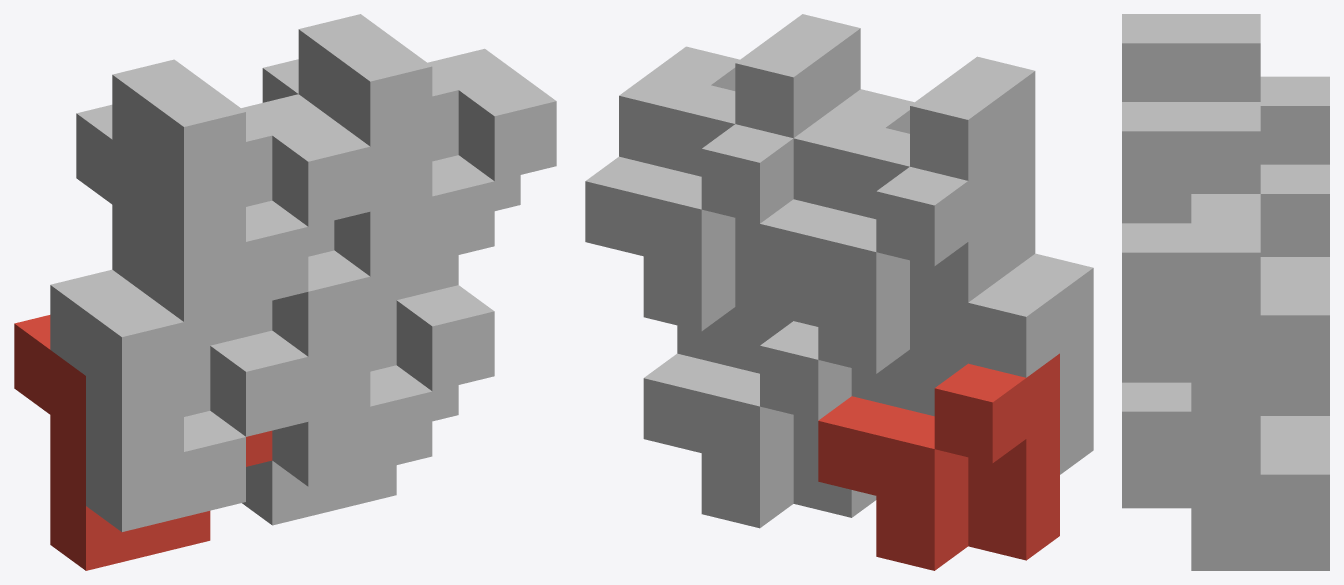
The model's file is tiling.obj.
3 renders of one model, left to right at view 1: azimuth 30°, elevation 25°; view 2: azimuth 150°, elevation 25°; view 3: azimuth 270°, elevation 25°, orthographic. The views are drawn at different scales.
Visible parts, largest first — view 1: copy_1_domain_4, copy_1_domain_2, copy_1_domain_8, copy_1_domain_6, copy_1_domain_1, copy_1_domain_3, copy_1_domain_5, copy_1_domain_7; view 2: copy_1_domain_1, copy_1_domain_3, copy_1_domain_7, copy_1_domain_5, copy_1_domain_4, copy_1_domain_8, copy_1_domain_2, copy_1_domain_6; view 3: copy_1_domain_8, copy_1_domain_7, copy_1_domain_5, copy_1_domain_6, copy_1_domain_4, copy_1_domain_3.
Boxes of the visible parts, x1=… form: copy_1_domain_4: x1=112, y1=59, x2=370, y2=321; copy_1_domain_2: x1=50, y1=269, x2=308, y2=531; copy_1_domain_8: x1=298, y1=14, x2=556, y2=276; copy_1_domain_6: x1=272, y1=250, x2=494, y2=486; copy_1_domain_1: x1=14, y1=315, x2=272, y2=570; copy_1_domain_3: x1=76, y1=104, x2=334, y2=351; copy_1_domain_5: x1=242, y1=385, x2=458, y2=525; copy_1_domain_7: x1=262, y1=59, x2=520, y2=306; copy_1_domain_1: x1=818, y1=353, x2=1059, y2=570; copy_1_domain_3: x1=760, y1=156, x2=1001, y2=373; copy_1_domain_7: x1=585, y1=124, x2=793, y2=331; copy_1_domain_5: x1=643, y1=321, x2=876, y2=528; copy_1_domain_4: x1=793, y1=56, x2=1035, y2=277; copy_1_domain_8: x1=619, y1=14, x2=860, y2=176; copy_1_domain_2: x1=851, y1=253, x2=1093, y2=474; copy_1_domain_6: x1=677, y1=293, x2=818, y2=373; copy_1_domain_8: x1=1122, y1=102, x2=1260, y2=348; copy_1_domain_7: x1=1191, y1=164, x2=1329, y2=411; copy_1_domain_5: x1=1191, y1=411, x2=1329, y2=570; copy_1_domain_6: x1=1122, y1=349, x2=1260, y2=508; copy_1_domain_4: x1=1122, y1=14, x2=1260, y2=101; copy_1_domain_3: x1=1260, y1=76, x2=1329, y2=164.
Bounding box in the file's own units: 7 × 7 × 3.
